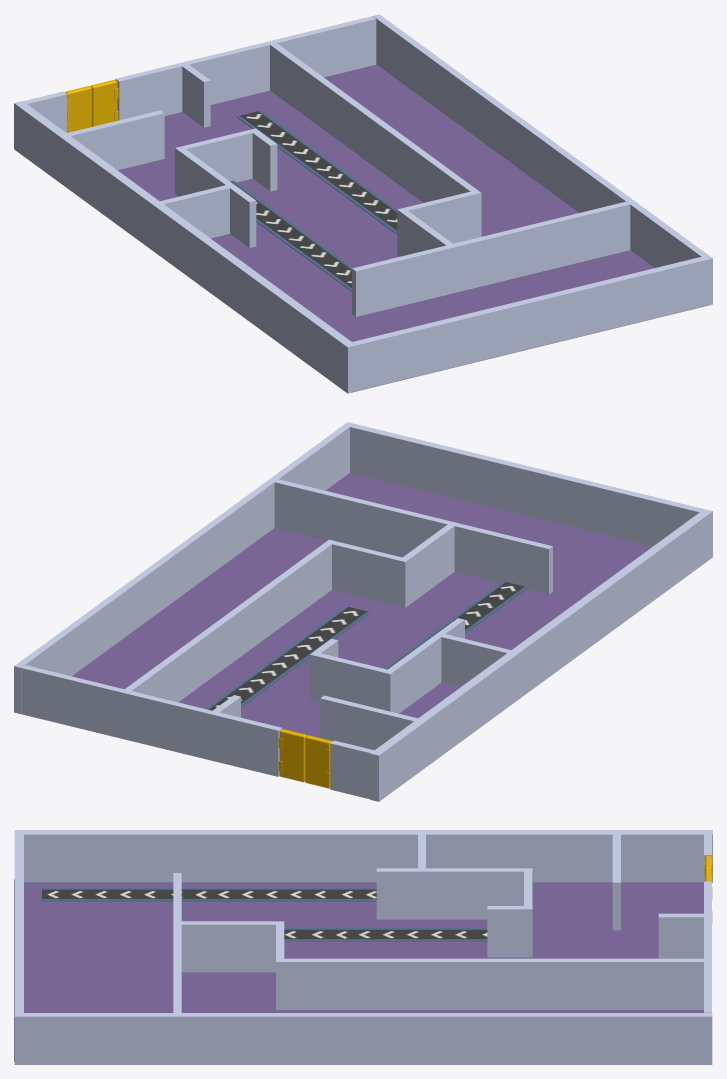
Rendered from maps54.fbx.
3 renders of one model, top to bottom at view 1: azimuth 30°, elevation 25°; view 2: azimuth 150°, elevation 25°; view 3: azimuth 270°, elevation 25°, orthographic. The views are drawn at different scales.
Visible parts, largest first — view 1: wall_01_08_geo, wall_01_07_geo, wall_01_05_geo, wall_01_06_geo1, wall_01_09_geo8, wall_01_09_geo19, wall_01_09_geo12, wall_01_09_geo18, wall_01_09_geo21, wall_01_09_geo17, wall_01_09_geo13, wall_01_09_geo15 (+10 smaller); view 2: wall_01_08_geo, wall_01_07_geo, wall_01_05_geo, wall_01_06_geo1, wall_01_09_geo19, wall_01_09_geo8, wall_01_09_geo12, wall_01_09_geo13, wall_01_09_geo21, wall_01_09_geo18, wall_01_09_geo20, wall_01_09_geo17 (+8 smaller); view 3: wall_01_08_geo, wall_01_06_geo1, wall_01_07_geo, wall_01_09_geo12, wall_01_09_geo21, wall_01_09_geo20, wall_01_09_geo22, conveyorBelt_geo7, conveyorBelt_geo, wall_01_09_geo23, conveyorBelt_geo1, wall_01_05_geo (+4 smaller).
Boxes of the visible parts, x1,y1,x2,y2 form: wall_01_08_geo: (118,64,708,392); wall_01_07_geo: (14,101,356,393); wall_01_05_geo: (352,257,705,391); wall_01_06_geo1: (373,14,712,306); wall_01_09_geo8: (352,201,630,316); wall_01_09_geo19: (115,16,376,120); wall_01_09_geo12: (267,41,481,238); wall_01_09_geo18: (66,110,164,170); wall_01_09_geo21: (175,146,256,247); wall_01_09_geo17: (182,130,252,182); wall_01_09_geo13: (404,191,474,243); wall_01_09_geo15: (160,185,229,238); wall_01_08_geo: (72,473,652,737); wall_01_07_geo: (370,509,712,801); wall_01_05_geo: (350,423,703,546); wall_01_06_geo1: (14,422,353,713); wall_01_09_geo19: (21,665,282,776); wall_01_09_geo8: (274,479,552,594); wall_01_09_geo12: (121,539,335,702); wall_01_09_geo13: (332,541,402,605); wall_01_09_geo21: (383,618,464,713); wall_01_09_geo18: (320,695,417,750); wall_01_09_geo20: (398,524,454,607); wall_01_09_geo17: (316,653,386,709); wall_01_08_geo: (14,879,703,1061); wall_01_06_geo1: (14,1013,712,1064); wall_01_07_geo: (14,830,712,882); wall_01_09_geo12: (276,958,710,1009); wall_01_09_geo21: (376,868,532,919); wall_01_09_geo20: (181,921,284,972); wall_01_09_geo22: (487,906,532,957); conveyorBelt_geo7: (212,888,376,901); conveyorBelt_geo: (42,888,212,901); wall_01_09_geo23: (658,913,703,958); conveyorBelt_geo1: (353,928,487,941); wall_01_05_geo: (14,834,23,1012).
Bounding box in the file's own units: 73.34 × 8.89 × 116.
Materials: 3 (3 with a texture image).
